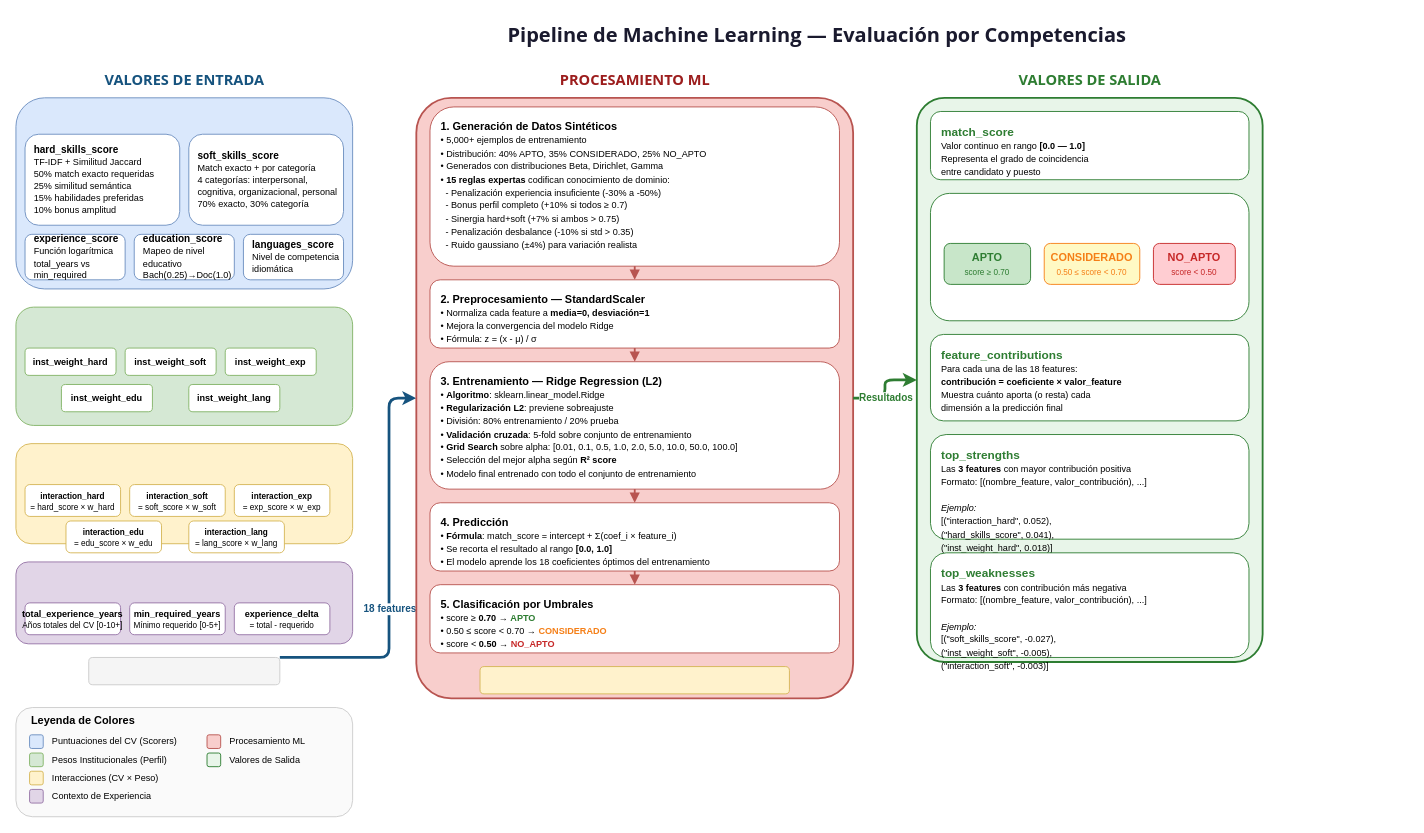
This 1424x833 diagram has some shape labels left out. The shapes that lost their labels are listed below. From the top down, each one's box as (x1, y1, x2, y2) in pixels, then its label:
(15, 97, 353, 289): Puntuaciones del CV (5 features — rango [0, 1])
(930, 192, 1249, 321): classification Categoría basada en umbrales del score
(15, 306, 353, 425): Pesos Institucionales (5 features — suma ≈ 1.0)
(15, 443, 353, 544): Features de Interacción (5 features — CV score × peso institucional)
(15, 561, 353, 644): Features de Contexto (3 features — experiencia)
(88, 657, 280, 685): Vector de 18 dimensiones
(479, 666, 789, 694): Métricas del Modelo R² ≈ 0.80 | RMSE ≈ 0.092 | MAE ≈ 0.074 | Accuracy ≈ 77%
